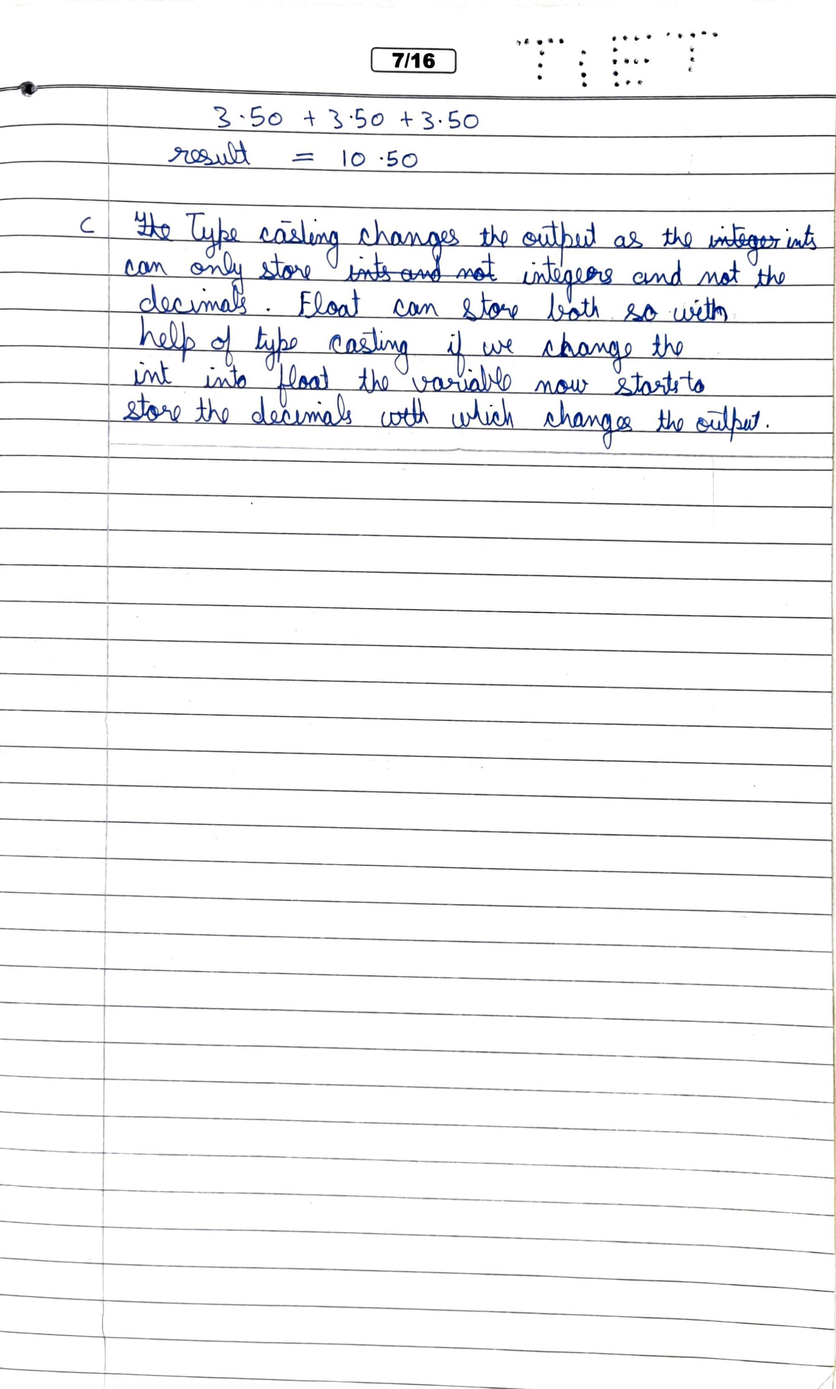cuttings: (342, 250, 498, 284), (707, 222, 781, 267), (134, 210, 173, 243)
